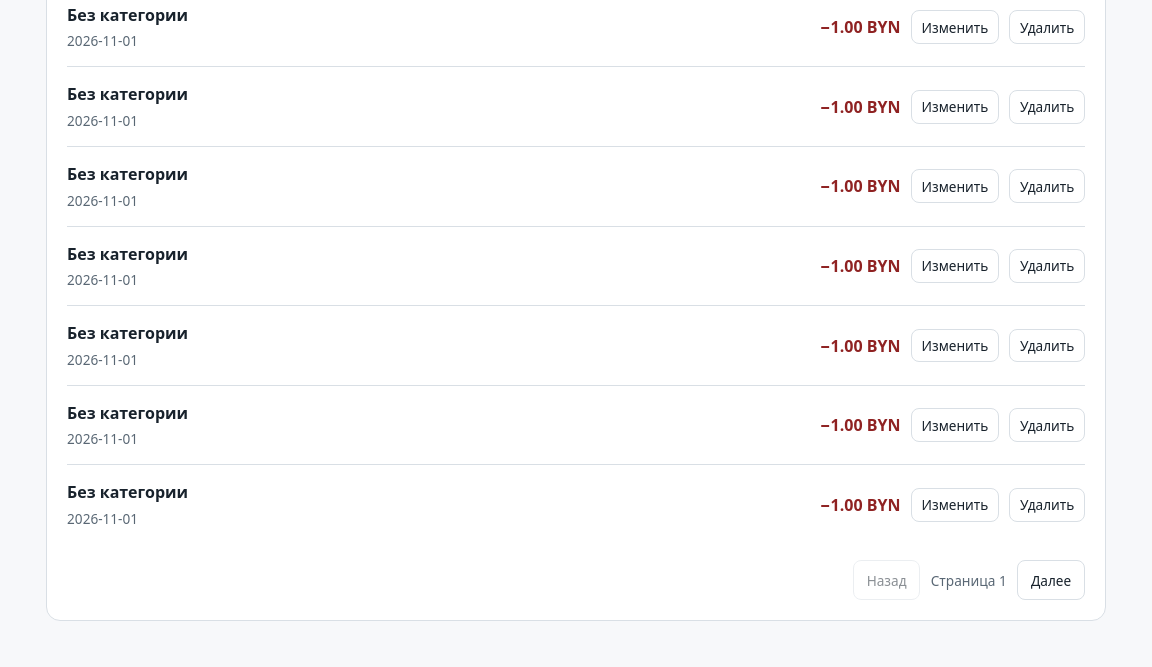
Scenario: transactions › requests the next page of transactions
(page scrolled)
Click the button "Далее" at (1051,580), box [1017,560,1085,600]
(page scrolled)
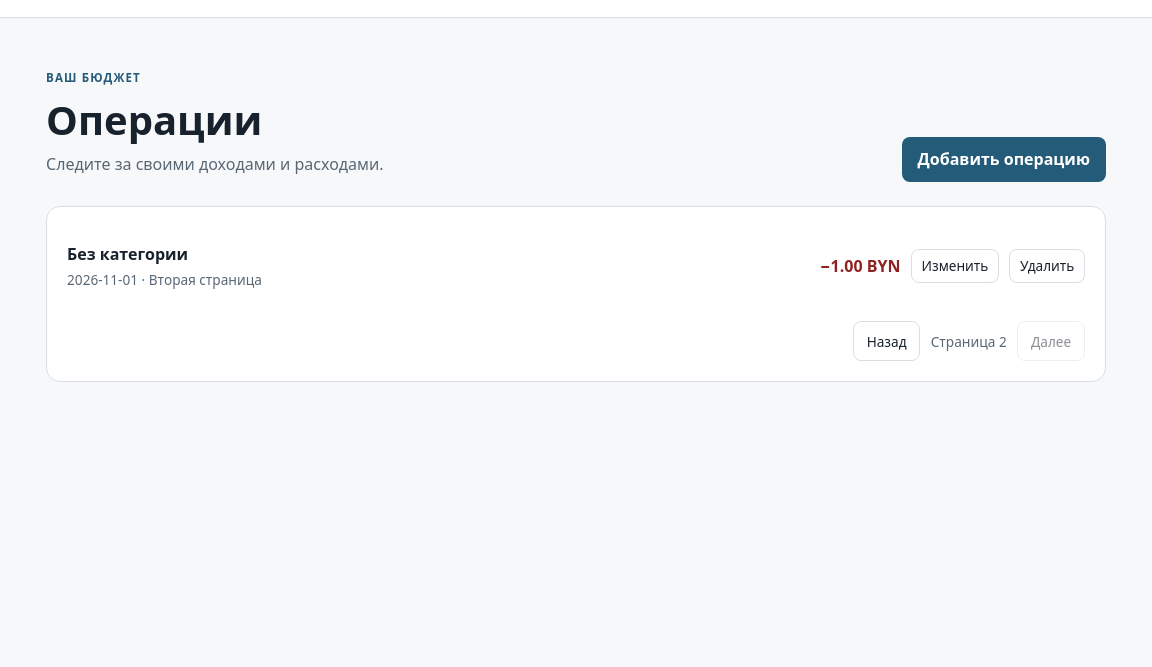
Check: the text "2026-11-01 · Вторая страница" is shown, box [67,270,262,289]
Check: the text "Страница 2" is shown, box [931,332,1007,351]
